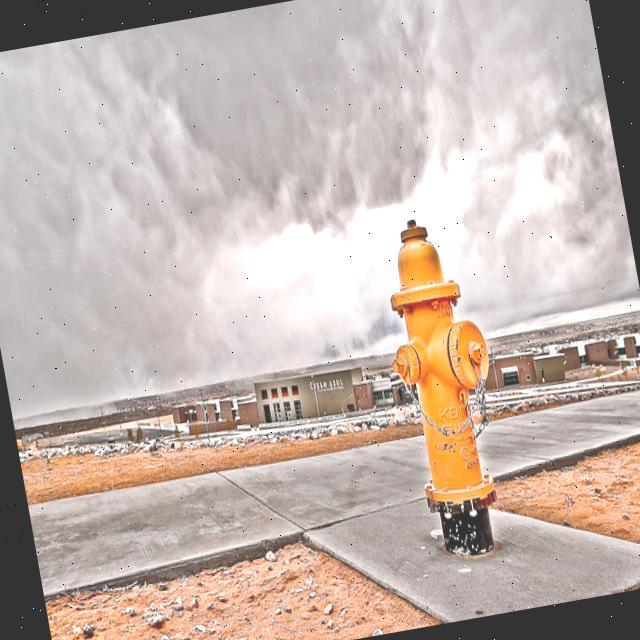fire_hydrant: (372, 211, 512, 566)
